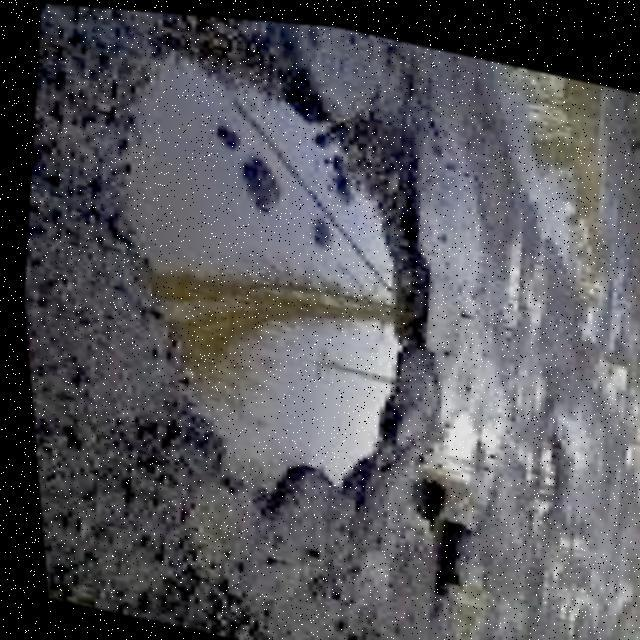pothole: (55, 4, 488, 548), (408, 388, 514, 536), (509, 422, 570, 524), (424, 557, 498, 640), (538, 569, 601, 640)
